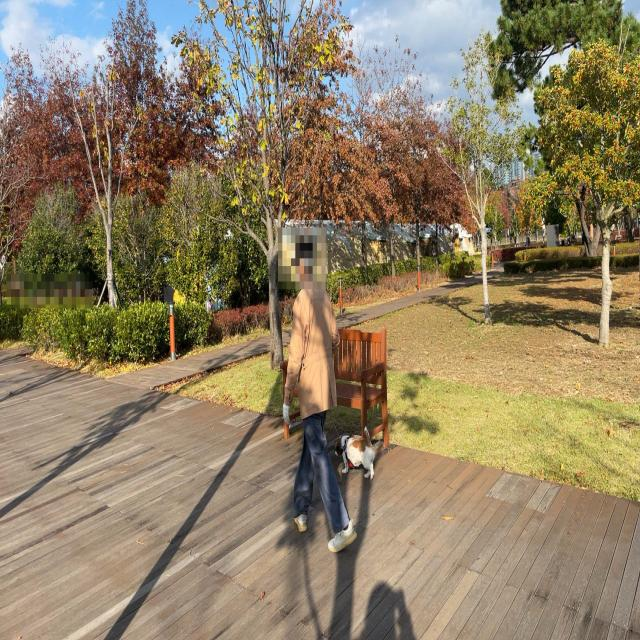Leashed_Dog: (316, 363, 375, 481)
